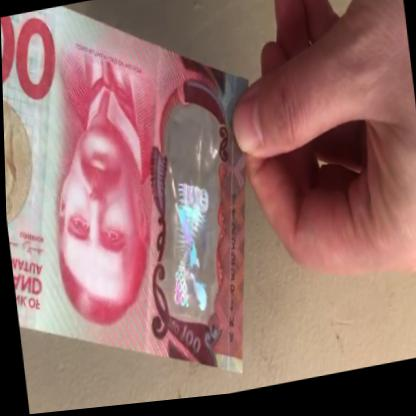100F: (151, 133, 227, 329)
